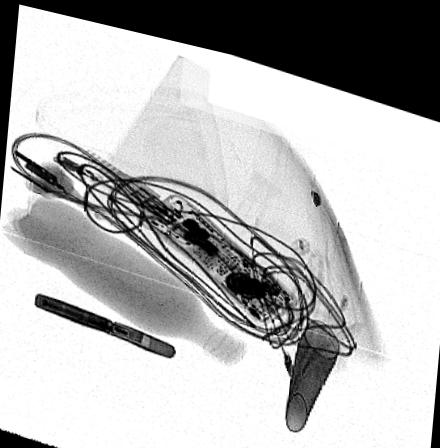Lighter: (33, 292, 177, 352)
